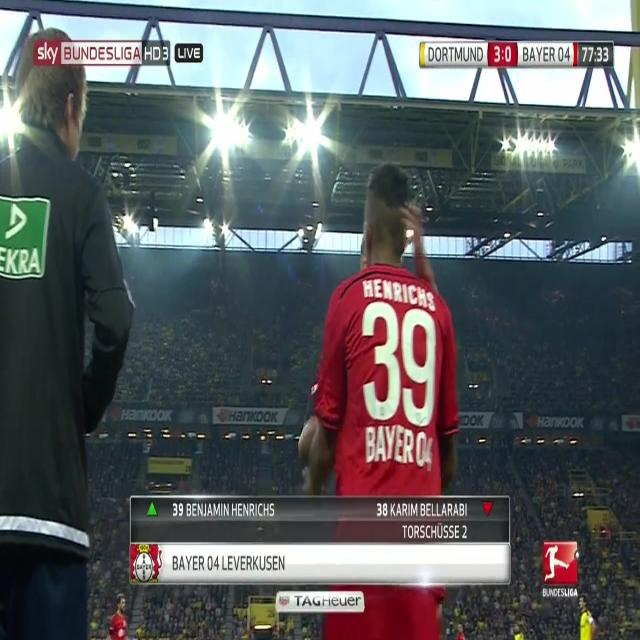Player: (294, 163, 458, 640), (106, 590, 136, 640), (575, 591, 601, 640)
